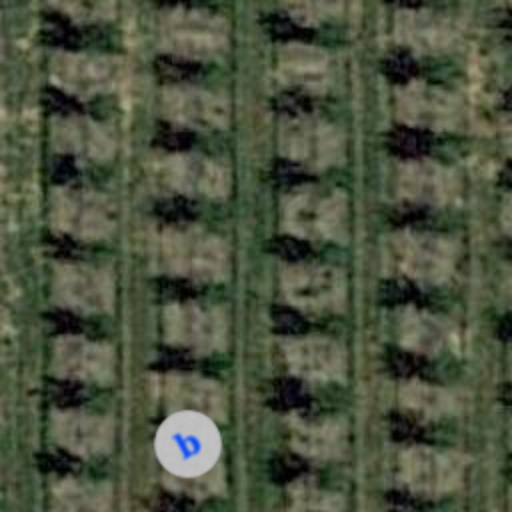circle: (142, 398, 234, 490)
